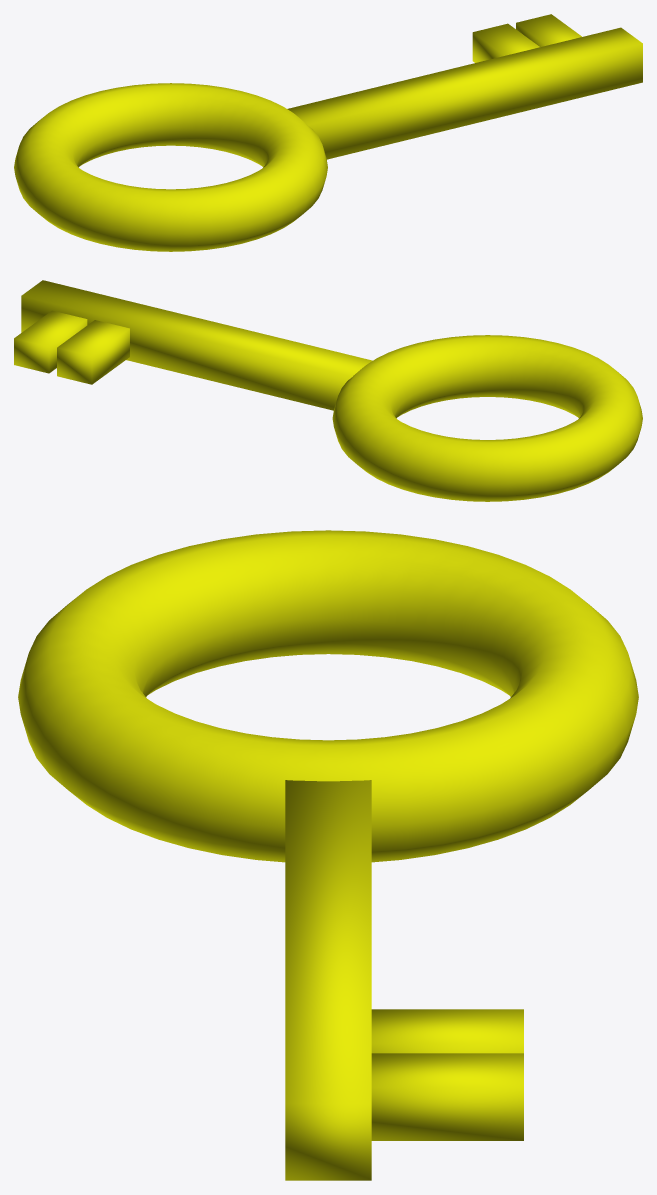
Rendered from Key.fbx.
The picture shows the model from 3 angles, top to bottom: view 1: azimuth 30°, elevation 25°; view 2: azimuth 150°, elevation 25°; view 3: azimuth 270°, elevation 25°; orthographic projection. The views are drawn at different scales.
Visible parts, largest first — view 1: Torus; view 2: Torus; view 3: Torus.
Part boxes in pixels (left/top/right/bottom): Torus: left=14, top=14, right=642, bottom=251; Torus: left=14, top=280, right=642, bottom=501; Torus: left=18, top=530, right=638, bottom=1180.
Size of the model in its own units: 25 by 5 by 54.88.
